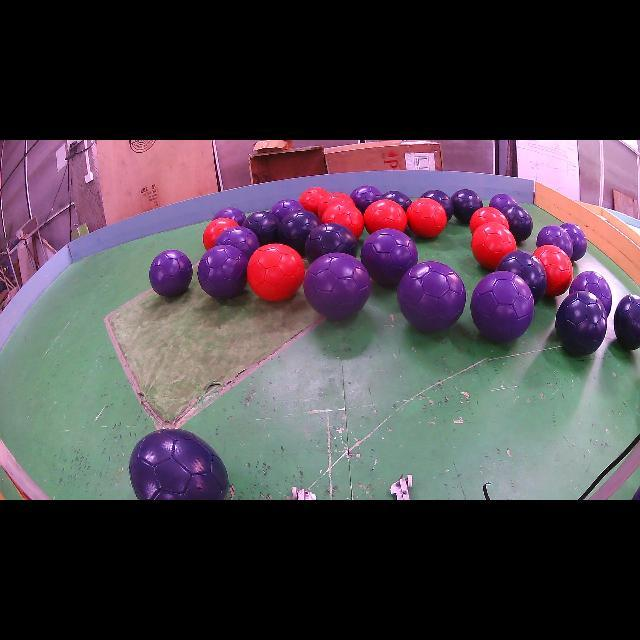B: (129, 429, 229, 500), (555, 291, 608, 355), (496, 250, 548, 302), (305, 222, 358, 262), (278, 210, 321, 255), (614, 294, 640, 350), (242, 211, 280, 245), (501, 204, 532, 242), (451, 189, 482, 224), (421, 190, 454, 221), (381, 191, 411, 211)
P: (398, 261, 466, 331), (470, 271, 534, 342), (304, 252, 371, 319), (360, 229, 418, 286), (198, 245, 248, 299), (149, 250, 192, 296), (569, 271, 611, 316), (214, 226, 260, 259), (536, 225, 574, 258), (561, 222, 586, 261), (350, 185, 381, 214), (270, 199, 304, 221), (212, 208, 246, 226), (489, 194, 516, 211)
R: (248, 244, 305, 301), (471, 222, 516, 270), (534, 245, 574, 296), (406, 198, 448, 238), (321, 202, 364, 239), (364, 200, 408, 234), (202, 218, 239, 250), (470, 206, 509, 233), (318, 192, 355, 219), (299, 188, 329, 214)
